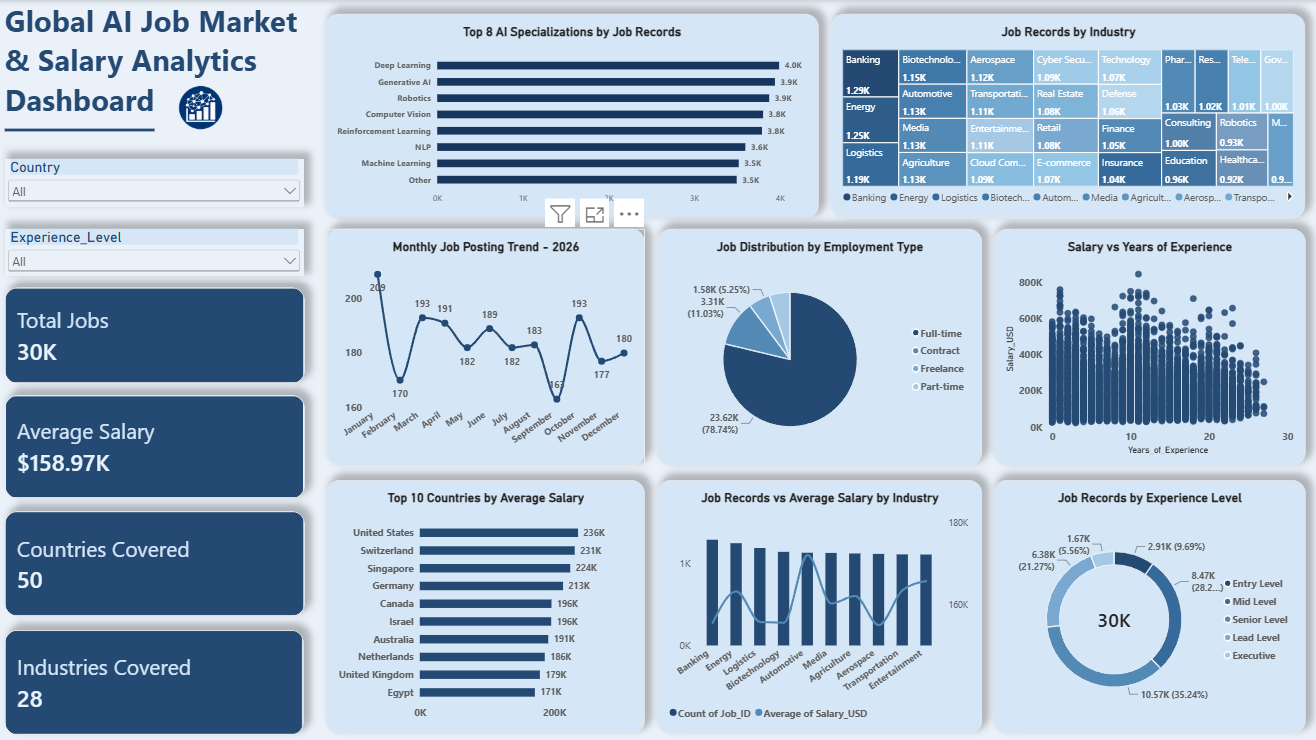

What the dashboard file says about the page in this screenshot:
{"tool":"powerbi","page":{"name":"Page 1","canvas":[1920,1080],"ordinal":0},"visuals":[{"type":"clusteredBarChart","title":"Top 8 AI Specializations by Job Records","fields":{"Category":["global_ai_jobs_2026_expanded_30.AI_Specialization"],"Y":["CountNonNull(global_ai_jobs_2026_expanded_30.Job_ID)"]},"box":[476.7,20,715,296.7],"z":0},{"type":"lineChart","title":"Monthly Job Posting Trend - 2026","fields":{"Category":["global_ai_jobs_2026_expanded_30.Posted_Date.Variation.Date Hierarchy.Month"],"Y":["CountNonNull(global_ai_jobs_2026_expanded_30.Job_ID)"]},"box":[478.3,331.7,461.7,343.3],"z":1000},{"type":"pieChart","title":"Job Distribution by Employment Type","fields":{"Category":["global_ai_jobs_2026_expanded_30.Job_Type"],"Y":["CountNonNull(global_ai_jobs_2026_expanded_30.Job_ID)"]},"box":[956.7,331.7,470,343.3],"z":2000},{"type":"scatterChart","title":"Salary vs Years of Experience","fields":{"X":["global_ai_jobs_2026_expanded_30.Years_of_Experience"],"Y":["global_ai_jobs_2026_expanded_30.Salary_USD"]},"box":[1443.3,331.7,451.7,343.3],"z":3000},{"type":"clusteredBarChart","title":"Top 10 Countries by Average Salary","fields":{"Category":["global_ai_jobs_2026_expanded_30.Country"],"Y":["Avg(global_ai_jobs_2026_expanded_30.Salary_USD)"]},"box":[478.3,695,461.7,368.3],"z":4000},{"type":"lineClusteredColumnComboChart","title":"Job Records vs Average Salary by Industry","fields":{"Category":["global_ai_jobs_2026_expanded_30.Industry"],"Y":["CountNonNull(global_ai_jobs_2026_expanded_30.Job_ID)"],"Y2":["Avg(global_ai_jobs_2026_expanded_30.Salary_USD)"]},"box":[956.7,695,470,368.3],"z":5000},{"type":"donutChart","title":"Job Records by Experience Level","fields":{"Category":["global_ai_jobs_2026_expanded_30.Experience_Level"],"Y":["CountNonNull(global_ai_jobs_2026_expanded_30.Job_ID)"]},"box":[1443.3,695,451.7,368.3],"z":6000},{"type":"textbox","box":[12.7,0,432.5,213.5],"z":7000},{"type":"treemap","title":"Job Records by Industry","fields":{"Group":["global_ai_jobs_2026_expanded_30.Industry"],"Values":["CountNonNull(global_ai_jobs_2026_expanded_30.Job_ID)"]},"box":[1208.3,20,686.7,296.7],"z":8000},{"type":"slicer","fields":{"Values":["global_ai_jobs_2026_expanded_30.Country"]},"box":[12.7,229.8,432.5,70.6],"z":8001},{"type":"slicer","fields":{"Values":["global_ai_jobs_2026_expanded_30.Experience_Level"]},"box":[12.7,331.2,432.5,68.8],"z":8002},{"type":"cardVisual","fields":{"Data":["global_ai_jobs_2026_expanded_30.Total Jobs"]},"box":[12.7,416.2,434.3,139.3],"z":8003},{"type":"cardVisual","title":"Countries Covered","fields":{"Data":["global_ai_jobs_2026_expanded_30.Average Salary"]},"box":[12.7,571.9,434.3,150.2],"z":8004},{"type":"cardVisual","title":" Countries Covered","fields":{"Data":["global_ai_jobs_2026_expanded_30.Countries Covered"]},"box":[12.7,740.2,434.3,152],"z":8005},{"type":"cardVisual","fields":{"Data":["global_ai_jobs_2026_expanded_30.Industries Covered"]},"box":[12.7,912.1,432.5,152],"z":8006},{"type":"shape","box":[12.7,106.8,217.2,162.9],"z":8007},{"type":"image","box":[194,120,206,68],"z":8008}]}

Visuals, with their boxes in screenshot pixels (x1, y1, x2, y2), scaled from the page's 1920x1080 canvas onto the 1316x740 screenshot:
"Top 8 AI Specializations by Job Records" clusteredBarChart: Rect(327, 14, 817, 217)
"Monthly Job Posting Trend - 2026" lineChart: Rect(328, 227, 644, 463)
"Job Distribution by Employment Type" pieChart: Rect(656, 227, 978, 463)
"Salary vs Years of Experience" scatterChart: Rect(989, 227, 1299, 463)
"Top 10 Countries by Average Salary" clusteredBarChart: Rect(328, 476, 644, 729)
"Job Records vs Average Salary by Industry" lineClusteredColumnComboChart: Rect(656, 476, 978, 729)
"Job Records by Experience Level" donutChart: Rect(989, 476, 1299, 729)
textbox: Rect(9, 0, 305, 146)
"Job Records by Industry" treemap: Rect(828, 14, 1299, 217)
slicer - global_ai_jobs_2026_expanded_30.Country: Rect(9, 157, 305, 206)
slicer - global_ai_jobs_2026_expanded_30.Experience_Level: Rect(9, 227, 305, 274)
cardVisual - global_ai_jobs_2026_expanded_30.Total Jobs: Rect(9, 285, 306, 381)
"Countries Covered" cardVisual: Rect(9, 392, 306, 495)
" Countries Covered" cardVisual: Rect(9, 507, 306, 611)
cardVisual - global_ai_jobs_2026_expanded_30.Industries Covered: Rect(9, 625, 305, 729)
shape: Rect(9, 73, 158, 185)
image: Rect(133, 82, 274, 129)
